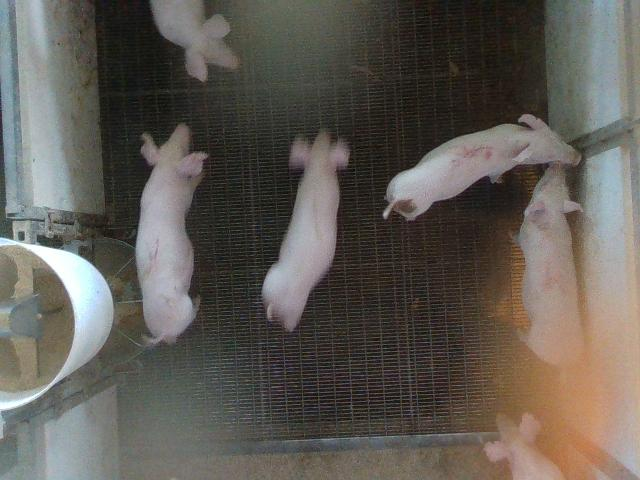pig-4: (514, 162, 585, 366)
pig-5: (382, 114, 581, 220)
